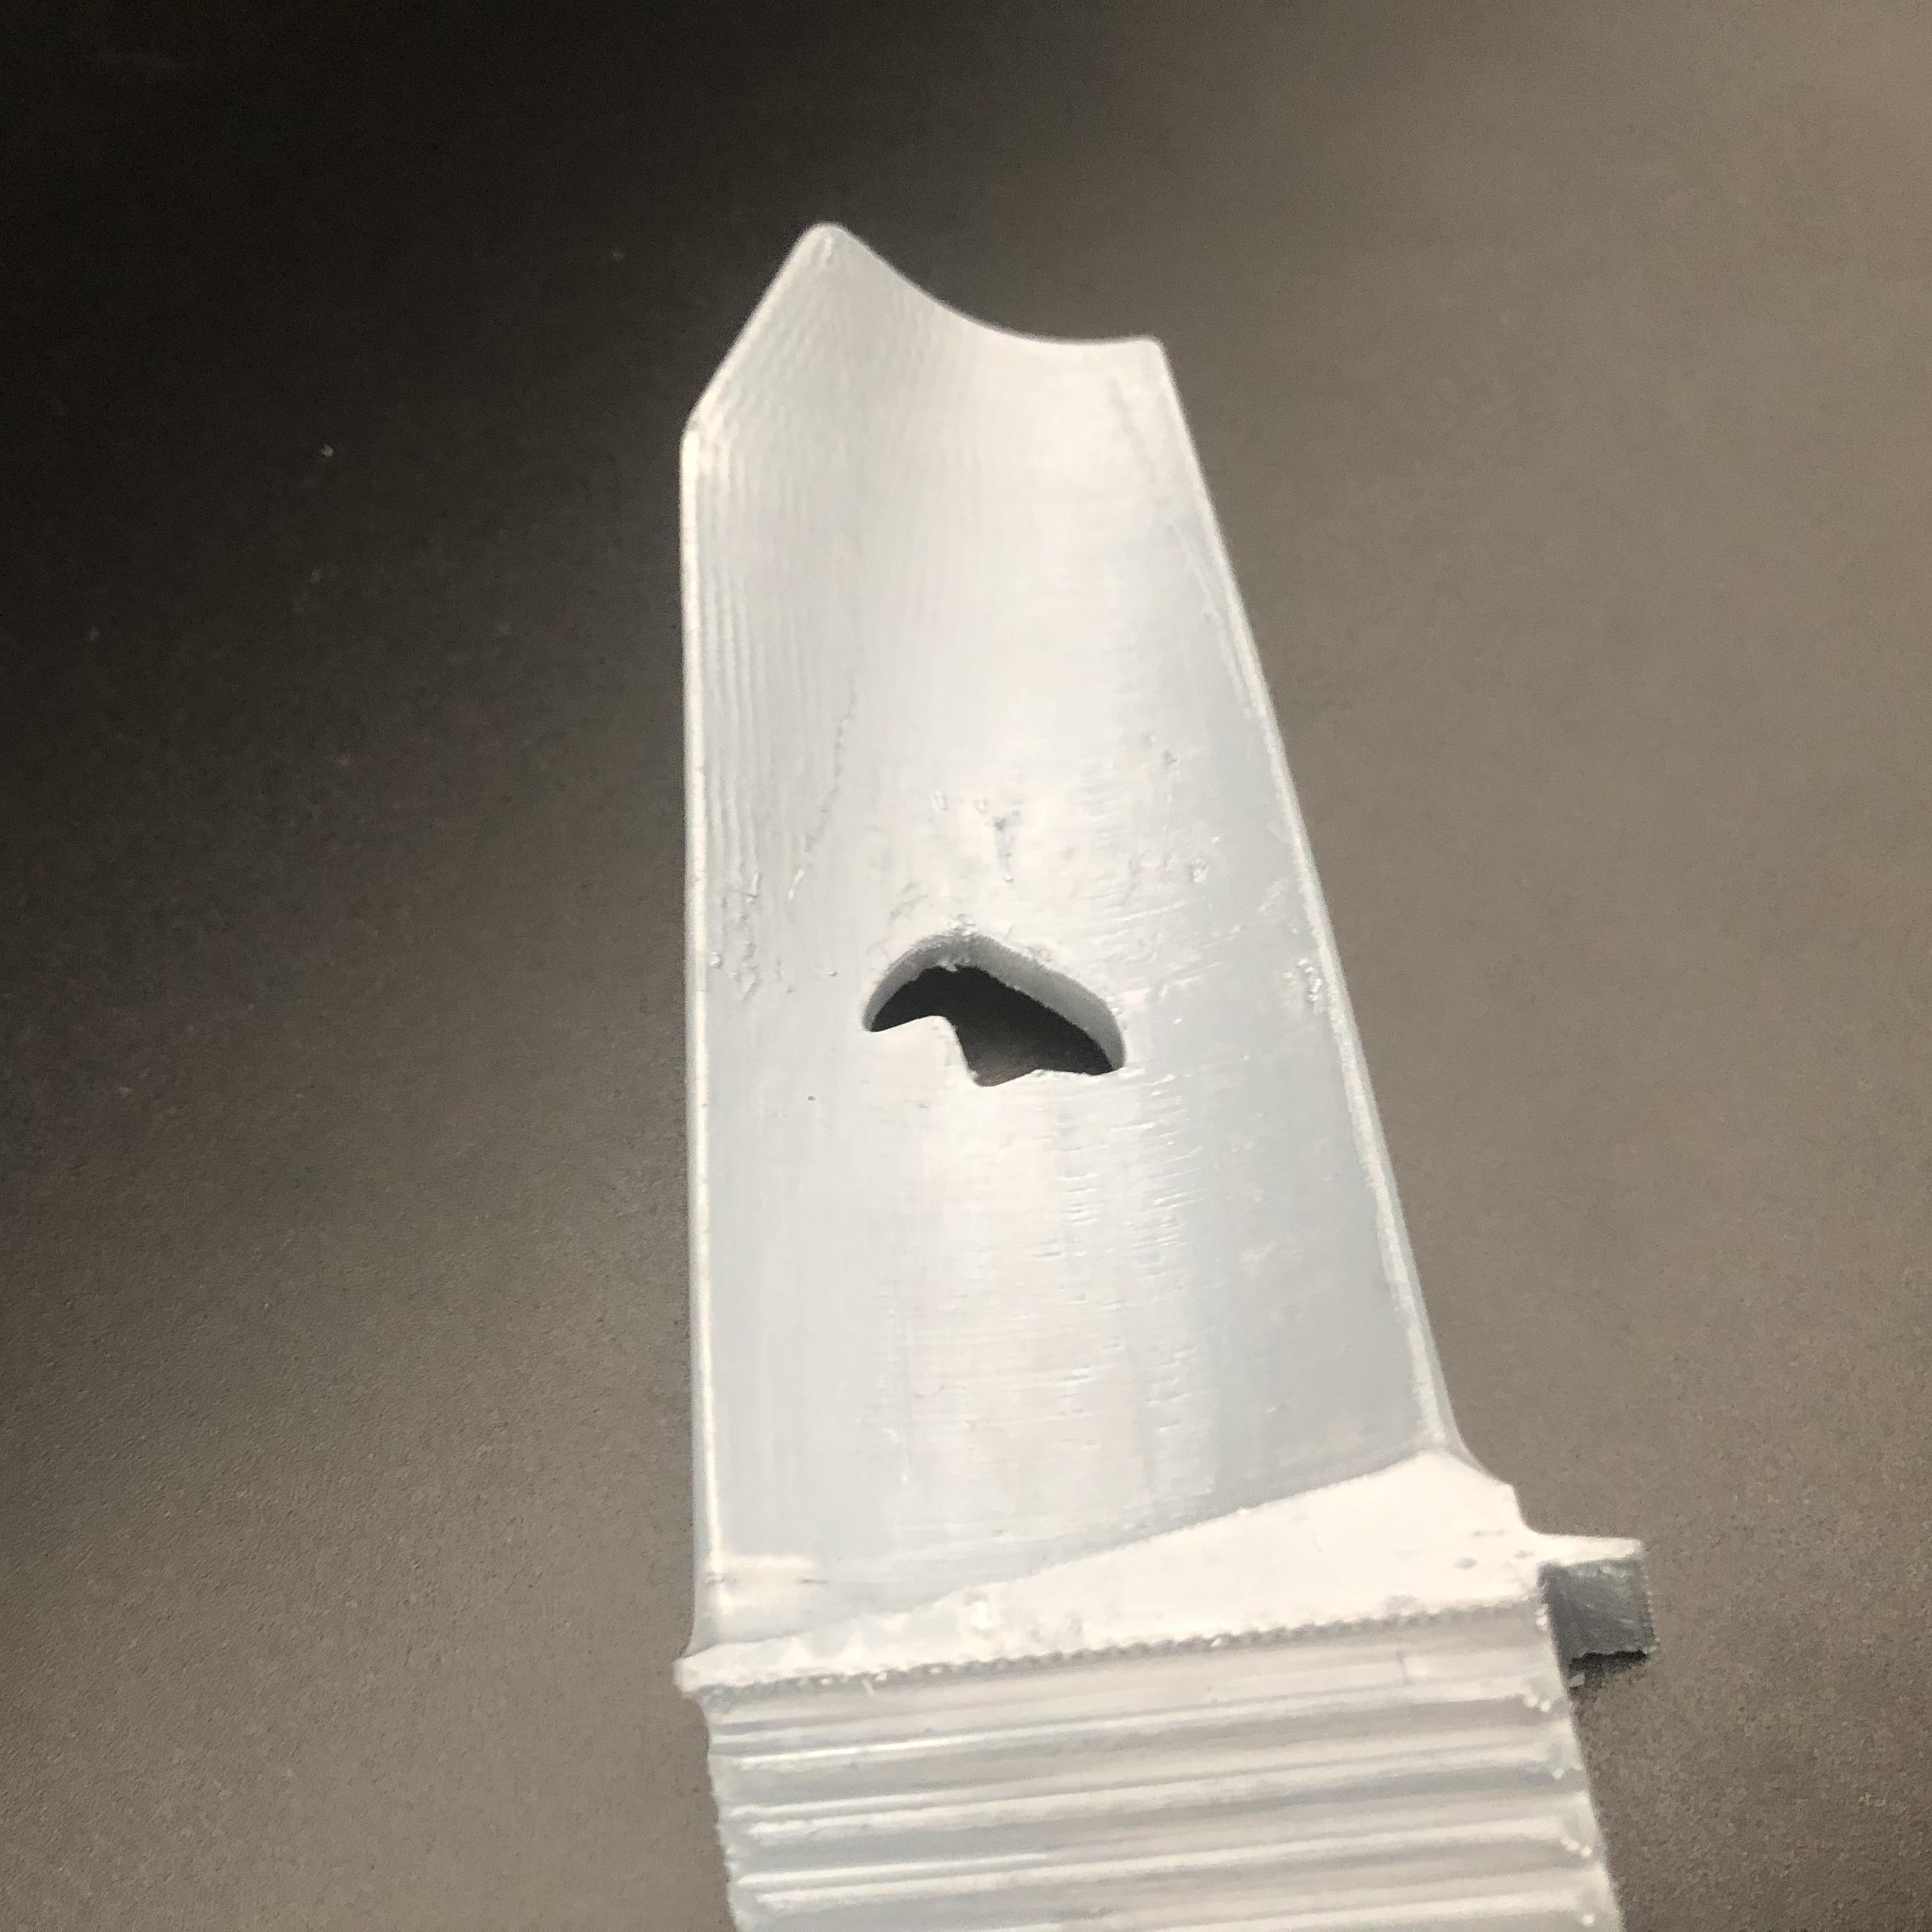breakdown: (842, 920, 1150, 1113)
